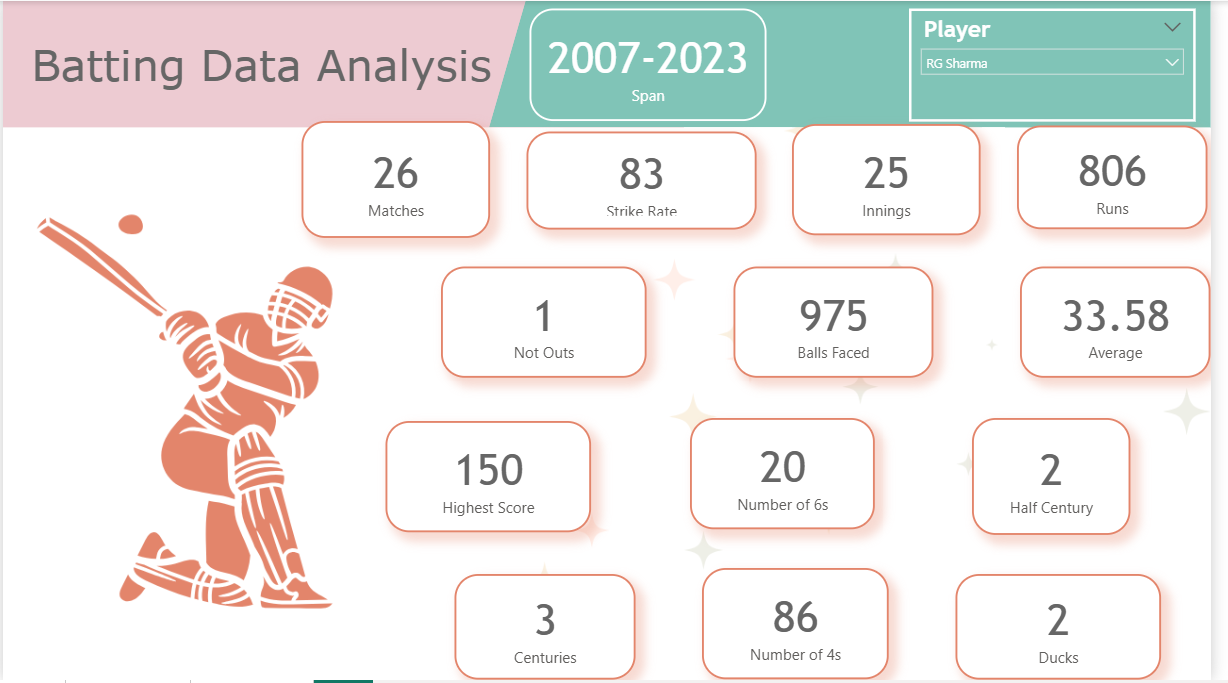

This screenshot's page, from the dashboard's own definition file:
{"tool":"powerbi","page":{"name":"Batting","canvas":[1280,720],"ordinal":0},"visuals":[{"type":"shape","box":[0,0,722,134],"z":0},{"type":"shape","box":[516,0,764,134],"z":1000},{"type":"shape","box":[1062,0,218,134],"z":2000},{"type":"slicer","fields":{"Values":["Batting.Player"]},"box":[960,8,304,120],"z":3000},{"type":"card","fields":{"Values":["Min(Batting.Span)"]},"box":[558.3,8,251.3,119.3],"z":4000},{"type":"card","fields":{"Values":["Sum(Batting.SR)"]},"box":[554.7,138,244,104],"z":5000},{"type":"card","fields":{"Values":["Sum(Batting.Runs)"]},"box":[1076,132,202,110],"z":6000},{"type":"card","fields":{"Values":["Sum(Batting.NO)"]},"box":[464,282,218,118],"z":7000},{"type":"card","fields":{"Values":["Sum(Batting.Mat)"]},"box":[316,128,200,124],"z":8000},{"type":"card","fields":{"Values":["Sum(Batting.Inns)"]},"box":[837.3,130,200,118],"z":9000},{"type":"card","fields":{"Values":["Min(Batting.HS)"]},"box":[406,445,218,118],"z":10000},{"type":"card","fields":{"Values":["Sum(Batting.BF)"]},"box":[774,282,212,118],"z":11000},{"type":"card","fields":{"Values":["Sum(Batting.Ave)"]},"box":[1078,282,202,118],"z":12000},{"type":"card","fields":{"Values":["Sum(Batting.6s)"]},"box":[728,442,196,118],"z":13000},{"type":"card","fields":{"Values":["Sum(Batting.4s)"]},"box":[741,602,198,118],"z":14000},{"type":"card","fields":{"Values":["Sum(Batting.50)"]},"box":[1028,442,168,124],"z":15000},{"type":"card","fields":{"Values":["Sum(Batting.100)"]},"box":[478,608,192,112],"z":16000},{"type":"card","fields":{"Values":["Sum(Batting.0)"]},"box":[1010,608,218,112],"z":17000}]}

Visuals, with their boxes in screenshot pixels (x1, y1, x2, y2), scaled from the page's 1280x720 canvas onto the 1228x683 screenshot:
shape: select_region(0, 0, 693, 127)
shape: select_region(495, 0, 1227, 127)
shape: select_region(1019, 0, 1227, 127)
slicer - Batting.Player: select_region(921, 8, 1213, 121)
card - Min(Batting.Span): select_region(536, 8, 777, 121)
card - Sum(Batting.SR): select_region(532, 131, 766, 230)
card - Sum(Batting.Runs): select_region(1032, 125, 1226, 230)
card - Sum(Batting.NO): select_region(445, 268, 654, 379)
card - Sum(Batting.Mat): select_region(303, 121, 495, 239)
card - Sum(Batting.Inns): select_region(803, 123, 995, 235)
card - Min(Batting.HS): select_region(390, 422, 599, 534)
card - Sum(Batting.BF): select_region(743, 268, 946, 379)
card - Sum(Batting.Ave): select_region(1034, 268, 1227, 379)
card - Sum(Batting.6s): select_region(698, 419, 886, 531)
card - Sum(Batting.4s): select_region(711, 571, 901, 682)
card - Sum(Batting.50): select_region(986, 419, 1147, 537)
card - Sum(Batting.100): select_region(459, 577, 643, 682)
card - Sum(Batting.0): select_region(969, 577, 1178, 682)
